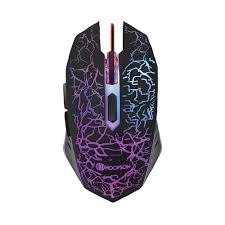mouse: (56, 9, 174, 203)
